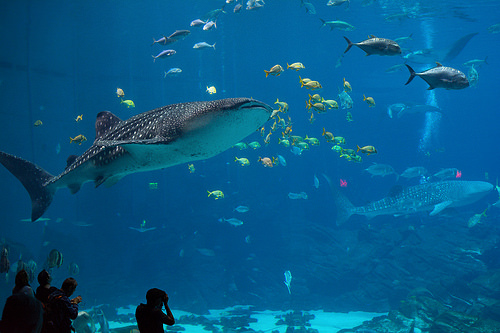shark: (7, 78, 289, 220)
